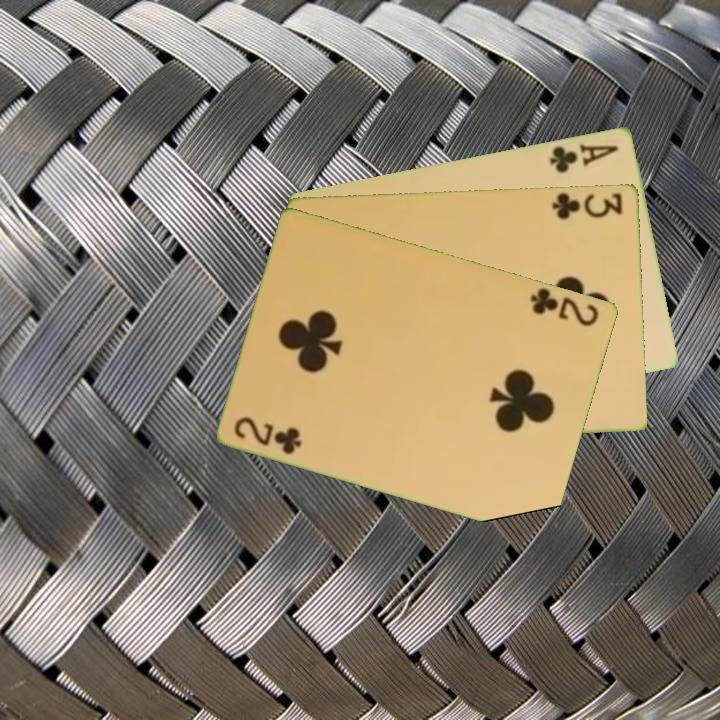2c: (231, 412, 305, 458), (527, 284, 602, 329)
3c: (548, 189, 626, 222)
Ac: (546, 139, 621, 176)
